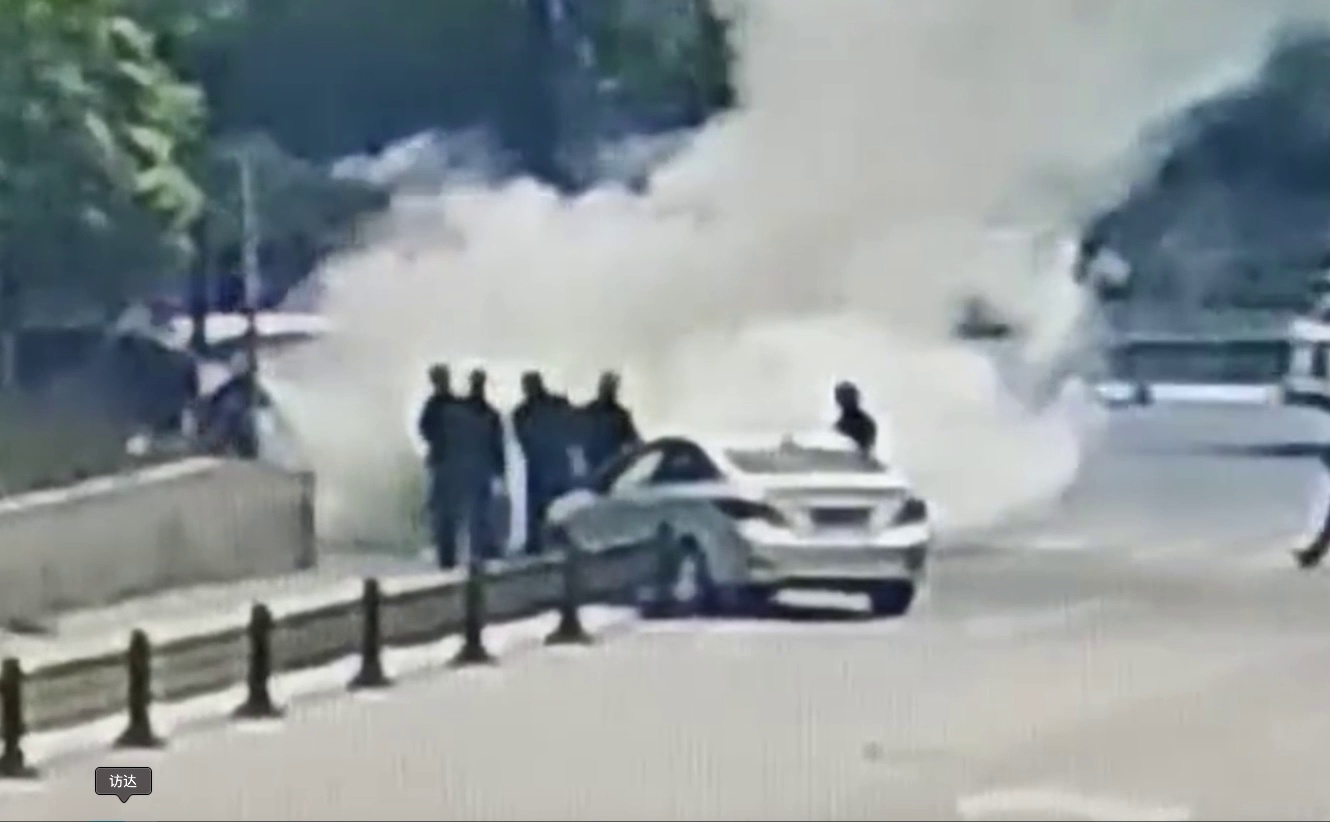smoke: (269, 52, 1089, 474)
